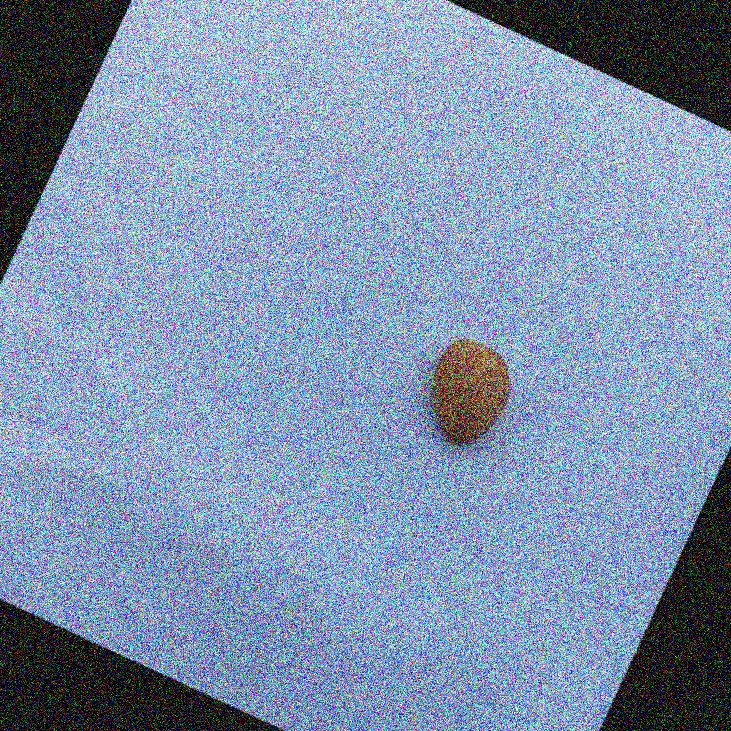grade2: (401, 324, 530, 462)
